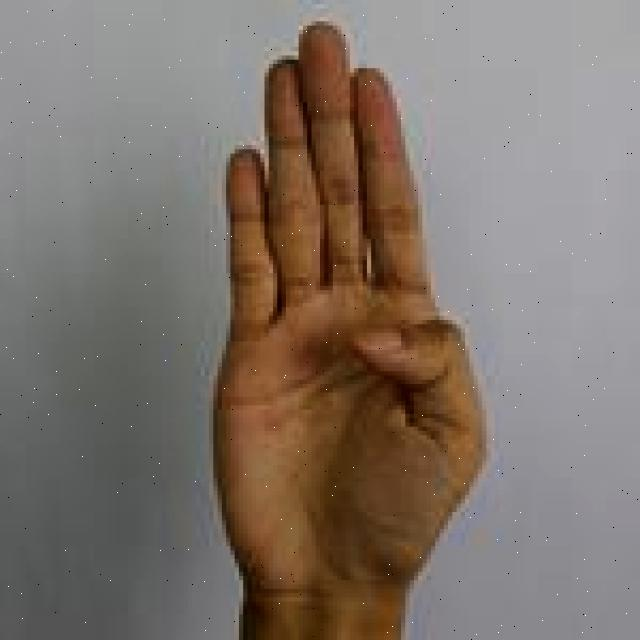B: (209, 14, 489, 640)
